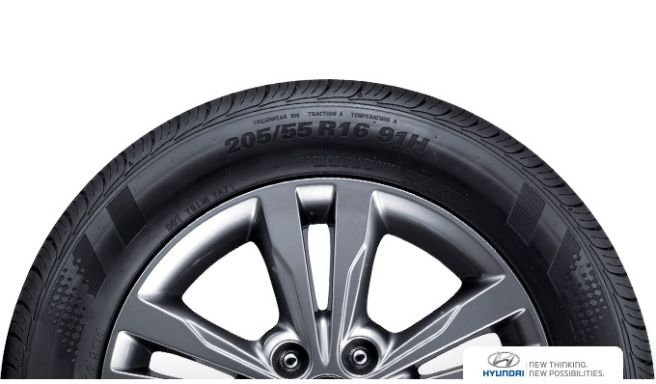new_condition: (14, 76, 656, 344)
